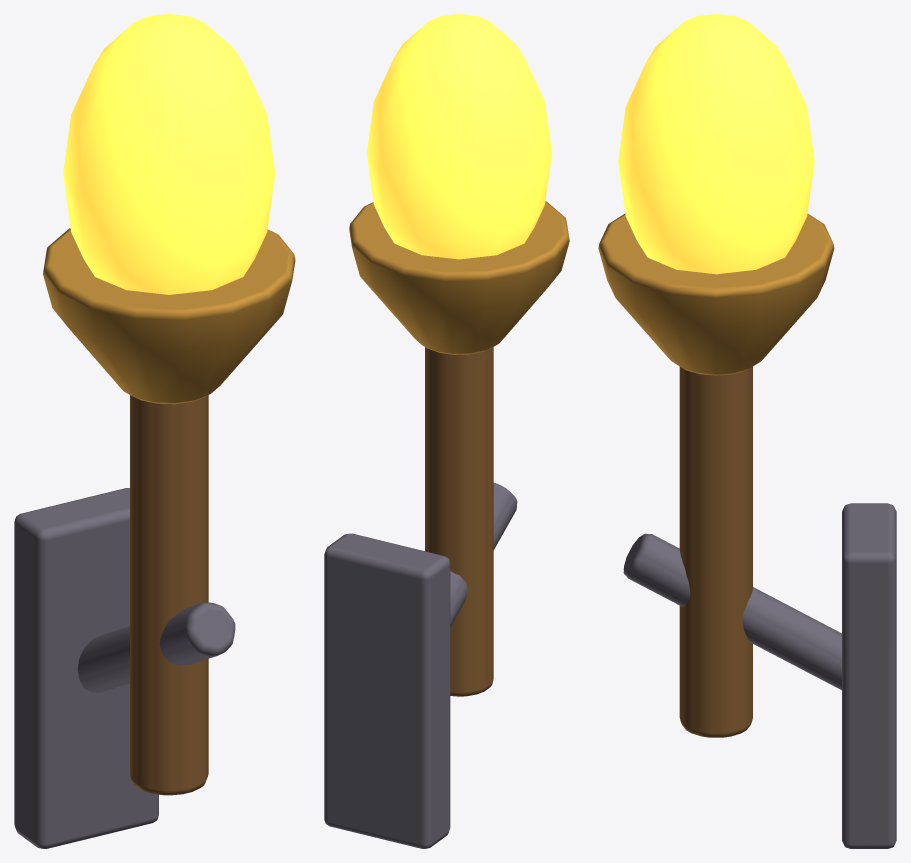
File: tocha.glb
The picture shows the model from 3 angles, left to right: view 1: azimuth 30°, elevation 25°; view 2: azimuth 150°, elevation 25°; view 3: azimuth 270°, elevation 25°; orthographic projection. The views are drawn at different scales.
Parts seen in each view (by area): view 1: Suporte, Chama; view 2: Suporte, Chama; view 3: Suporte, Chama.
Part boxes in pixels (x1,y1,x2,y2): Suporte: (14, 228, 295, 848); Chama: (63, 14, 275, 294); Suporte: (324, 201, 569, 848); Chama: (366, 14, 551, 259); Suporte: (598, 213, 896, 848); Chama: (618, 14, 814, 274).
Bounding box in the file's own units: 0.2161 × 0.814 × 0.2731.
